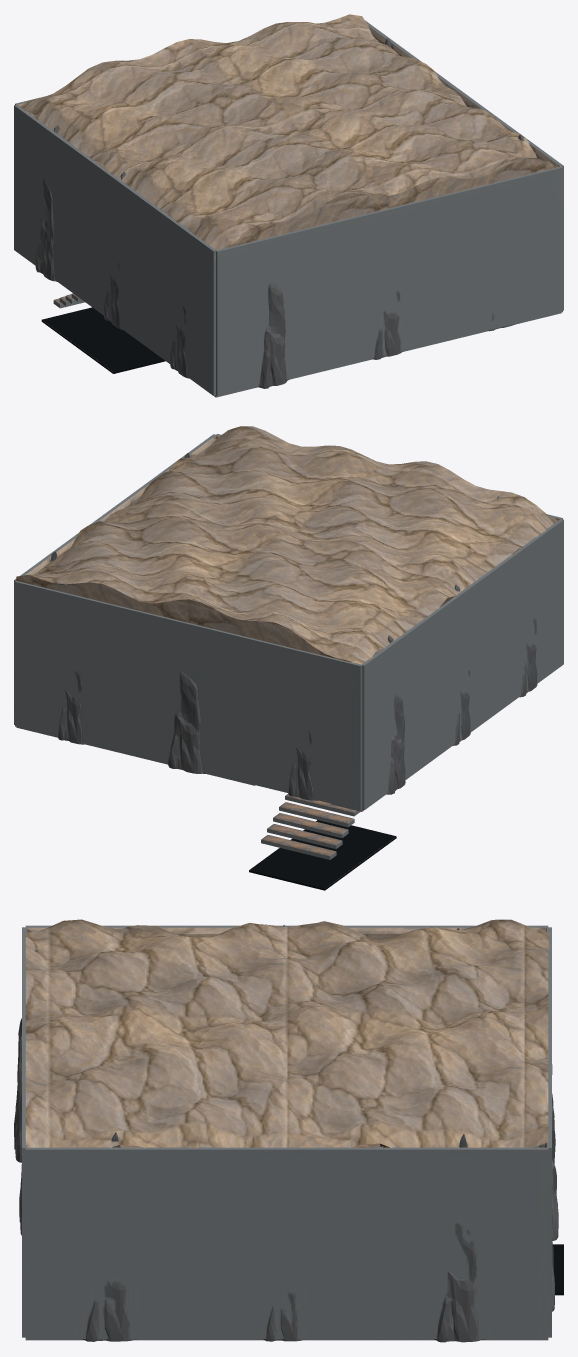
The model's file is room.glb.
3 renders of one model, top to bottom at view 1: azimuth 30°, elevation 25°; view 2: azimuth 150°, elevation 25°; view 3: azimuth 270°, elevation 25°, orthographic. The views are drawn at different scales.
Visible parts, largest first — view 1: CERBERUS-ROOM; view 2: CERBERUS-ROOM; view 3: CERBERUS-ROOM.
Part boxes in pixels (x1,y1,x2,y2): CERBERUS-ROOM: (14,14,563,397); CERBERUS-ROOM: (14,426,563,890); CERBERUS-ROOM: (14,919,563,1342).
Size of the model in its own units: 10.32 by 7.05 by 10.52.
Materials: 1 (1 with a texture image).
